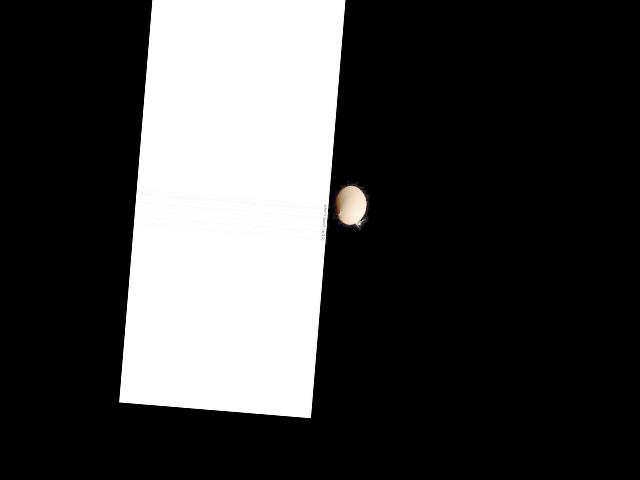egg: (333, 184, 367, 225)
